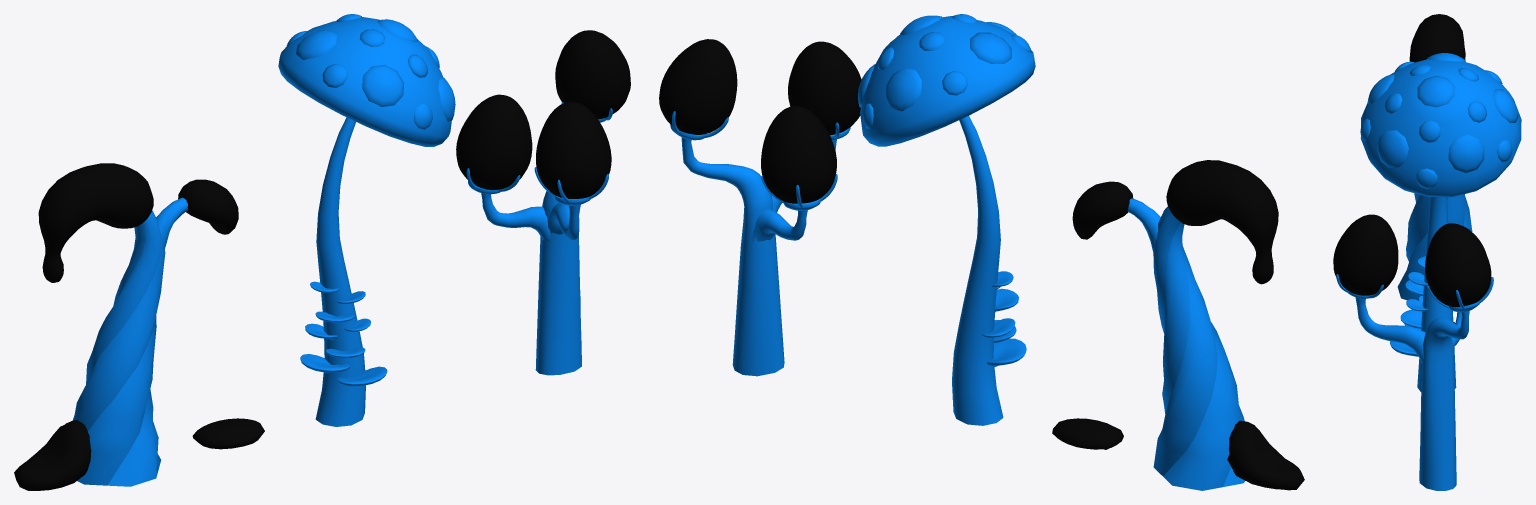
File: Tex_Environment_Props_Magical_Trees_Pink_0.fbx
3 views of the same model, side by side, from view 1: azimuth 30°, elevation 25°; view 2: azimuth 150°, elevation 25°; view 3: azimuth 270°, elevation 25° (orthographic). The views are drawn at different scales.
Visible parts, largest first — view 1: Stem, polySurface11, polySurface5, polySurface14, polySurface9; view 2: Stem, polySurface11, polySurface5, polySurface14, polySurface9; view 3: Stem, polySurface11, polySurface9, polySurface5, polySurface14.
Part boxes in pixels (x1=…): Stem: x1=278, y1=14, x2=455, y2=426; polySurface11: x1=456, y1=30, x2=630, y2=198; polySurface5: x1=72, y1=197, x2=188, y2=486; polySurface14: x1=14, y1=163, x2=264, y2=490; polySurface9: x1=466, y1=102, x2=612, y2=375; Stem: x1=858, y1=14, x2=1035, y2=425; polySurface11: x1=659, y1=39, x2=861, y2=203; polySurface5: x1=1128, y1=198, x2=1245, y2=490; polySurface14: x1=1052, y1=160, x2=1304, y2=490; polySurface9: x1=670, y1=111, x2=859, y2=376; Stem: x1=1360, y1=53, x2=1521, y2=391; polySurface11: x1=1333, y1=214, x2=1491, y2=306; polySurface9: x1=1336, y1=274, x2=1493, y2=490; polySurface5: x1=1397, y1=193, x2=1472, y2=300; polySurface14: x1=1409, y1=14, x2=1465, y2=323.
Bounding box in the file's own units: 1863 × 1116 × 567.
